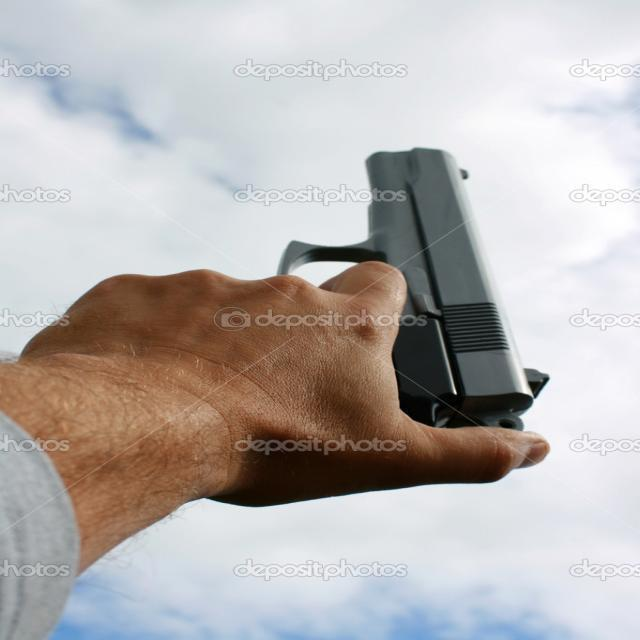weapon: (274, 146, 549, 432)
